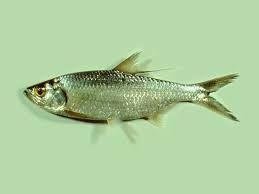Indo-Pacific Tarpon: (26, 50, 240, 142)
